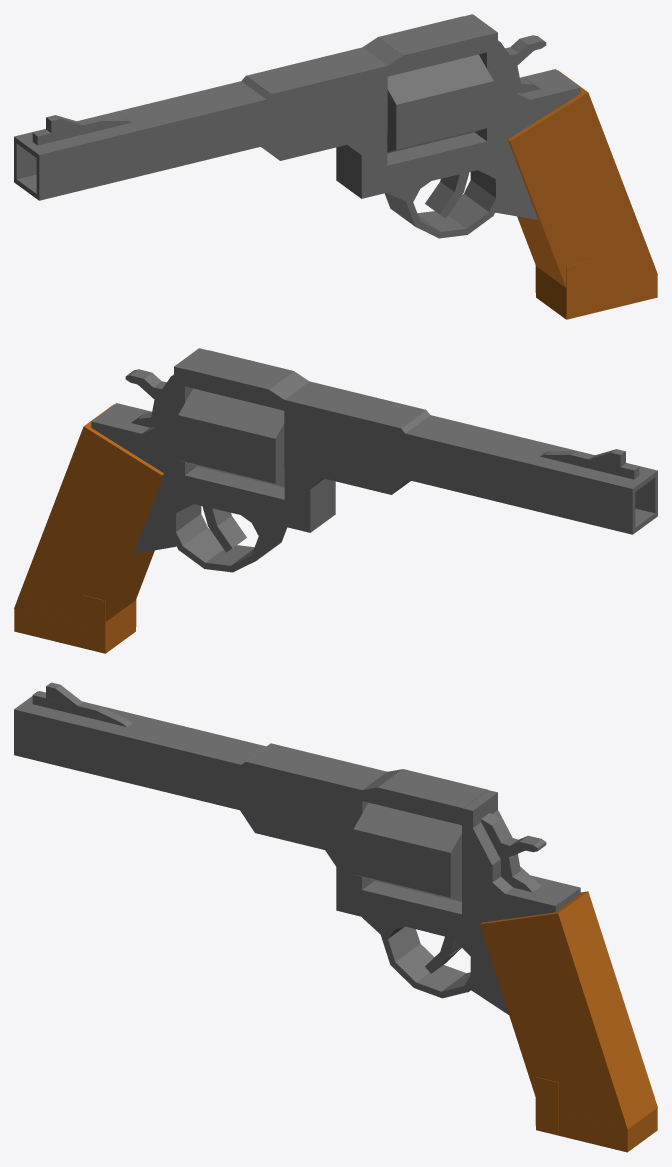
File: リボルバー.fbx
The picture shows the model from 3 angles, top to bottom: view 1: azimuth 30°, elevation 25°; view 2: azimuth 150°, elevation 25°; view 3: azimuth 330°, elevation 25°; orthographic projection.
Visible parts, largest first — view 1: 円柱; view 2: 円柱; view 3: 円柱.
Part boxes in pixels (<box>): 円柱: <box>14,14,657,319</box>; 円柱: <box>14,348,657,653</box>; 円柱: <box>14,682,657,1152</box>.
Size of the model in its own units: 18.65 by 9.03 by 2.25.
